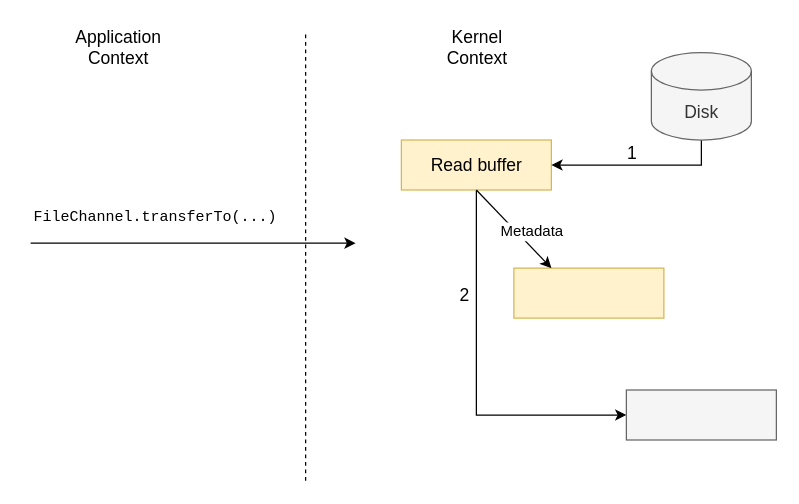
The diagram is 799 pixels wide and 504 high, and some of its shapes have lost their labels. Here are the shapes that lost their labels. From the top down, the centre of each, then its label:
At pixel 588 292: "Socket buffer".
At pixel 700 414: "NIC buffer".
